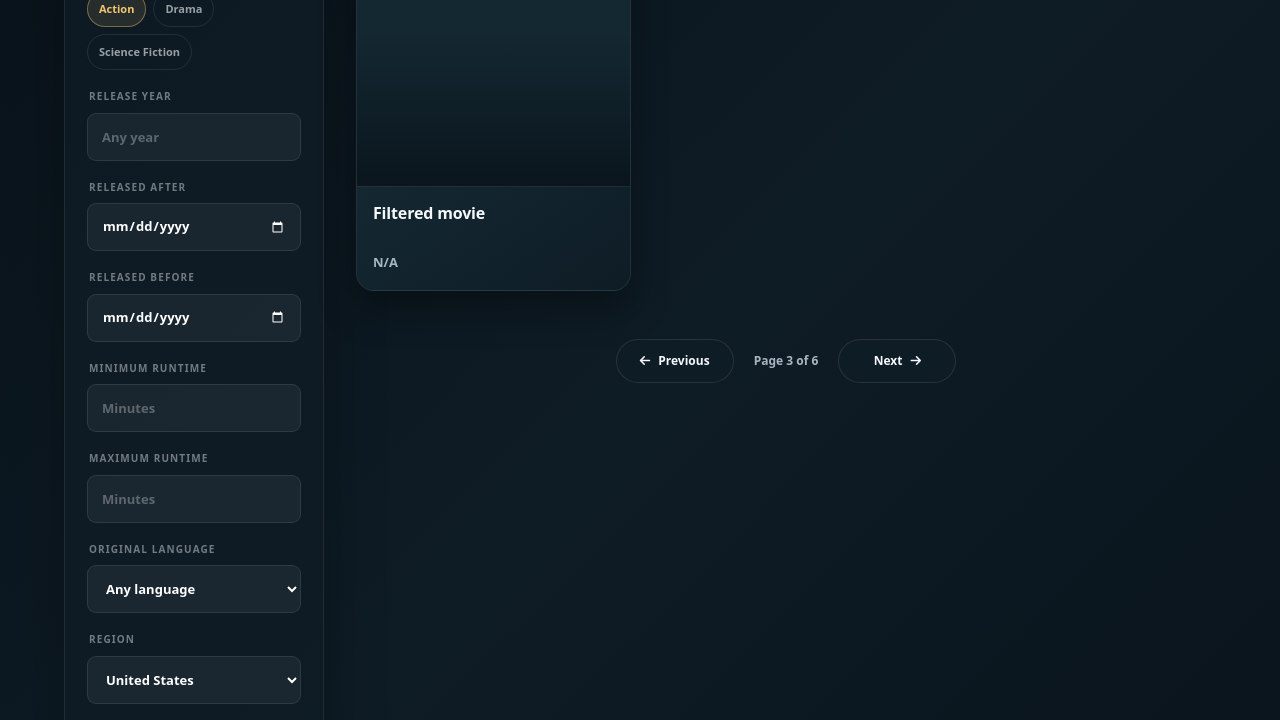
Test: Discover URL filters › keeps server pagination in the URL
(page scrolled)
Click the button "Next": [897, 361] box [838,339,956,383]
(page scrolled)
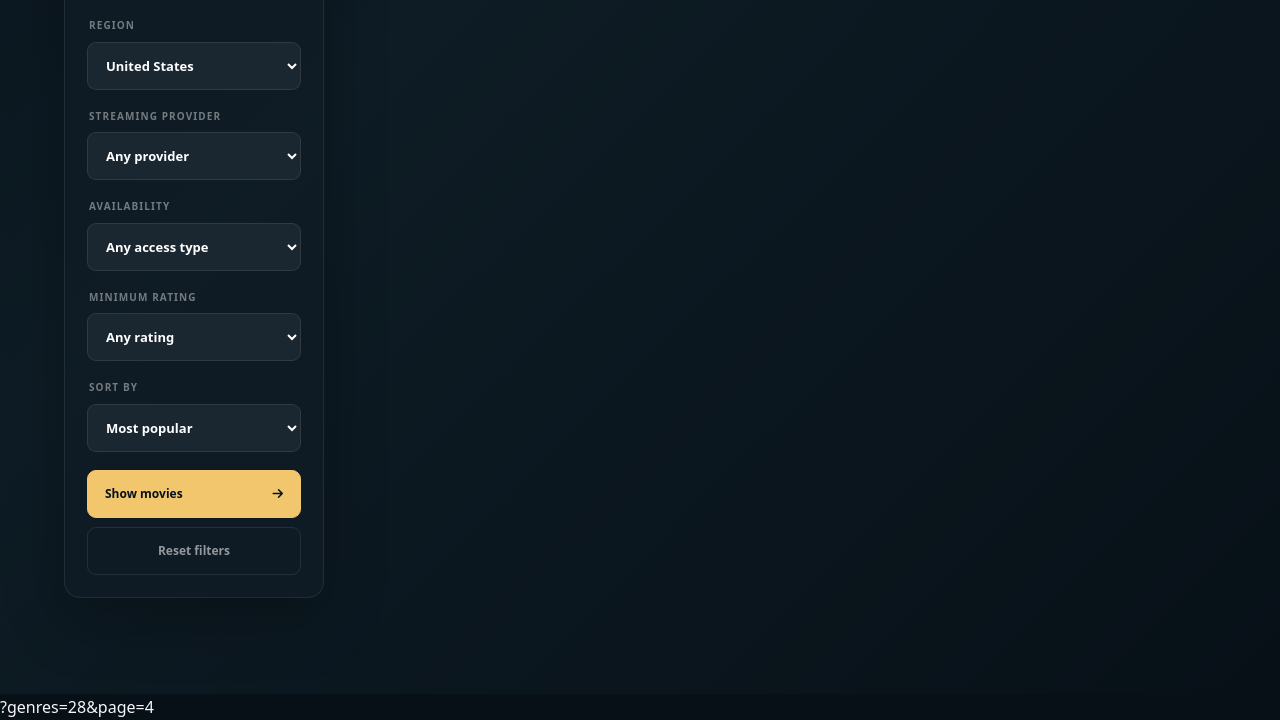
Check: the text with test id "location" shows "page=4", box [0,696,154,718]
